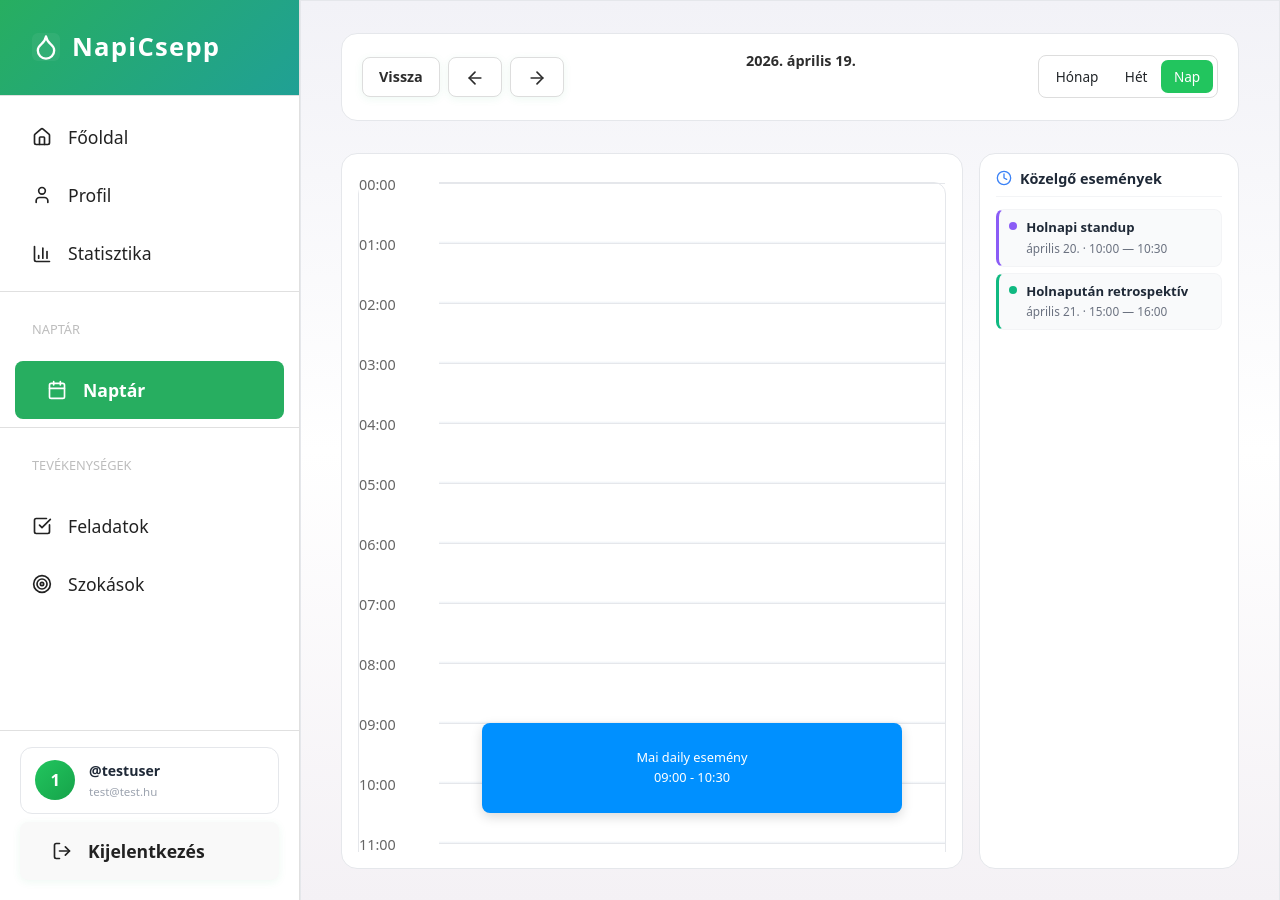
Daily View — Esemény blokk megjelenés › 7 - Mini popup Szerkesztés megnyitja az EventPopupot
Click the element with class "event-block-daily": (692,768) [482,723,902,813]
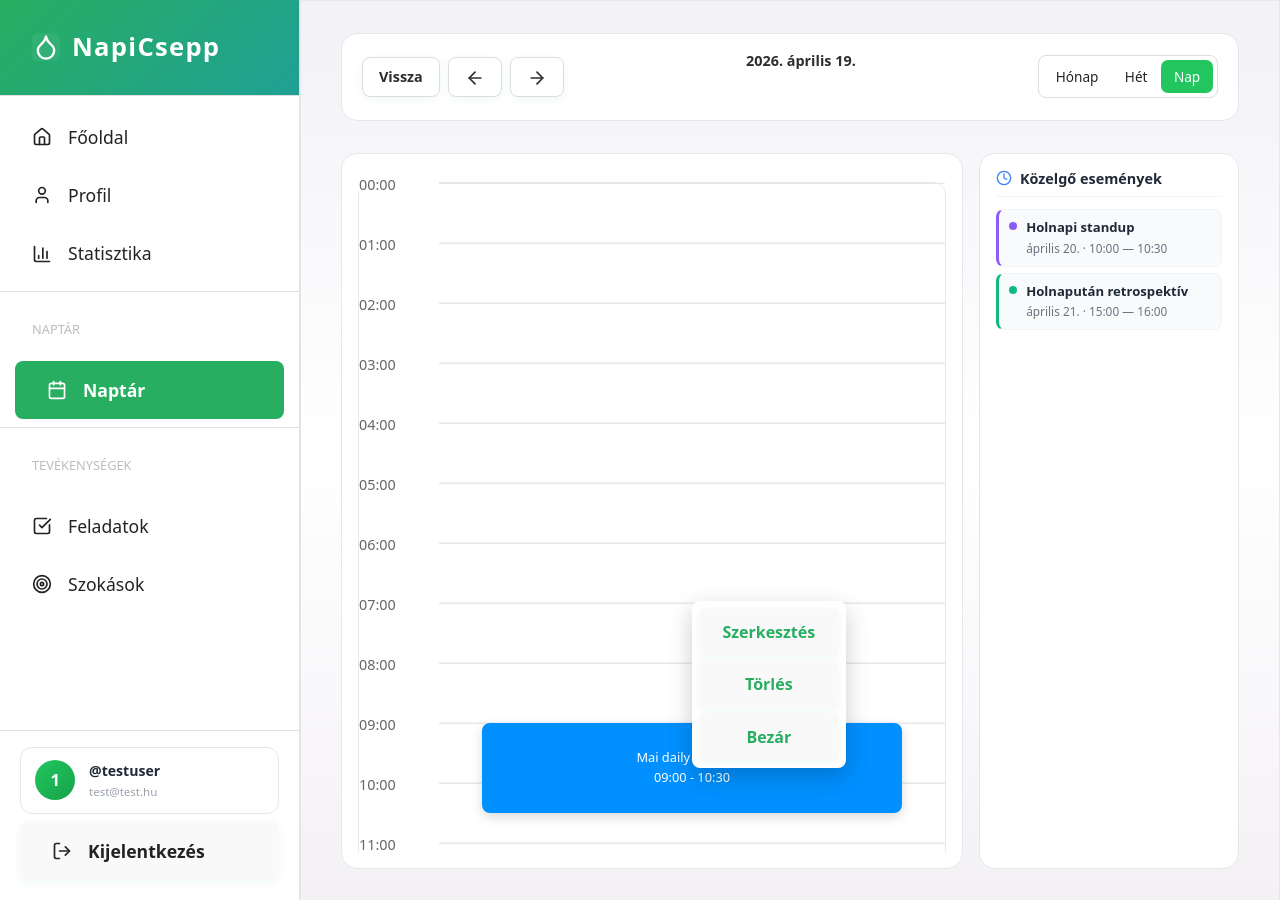
Click the button "Szerkesztés": (769,632) [700,609,838,655]
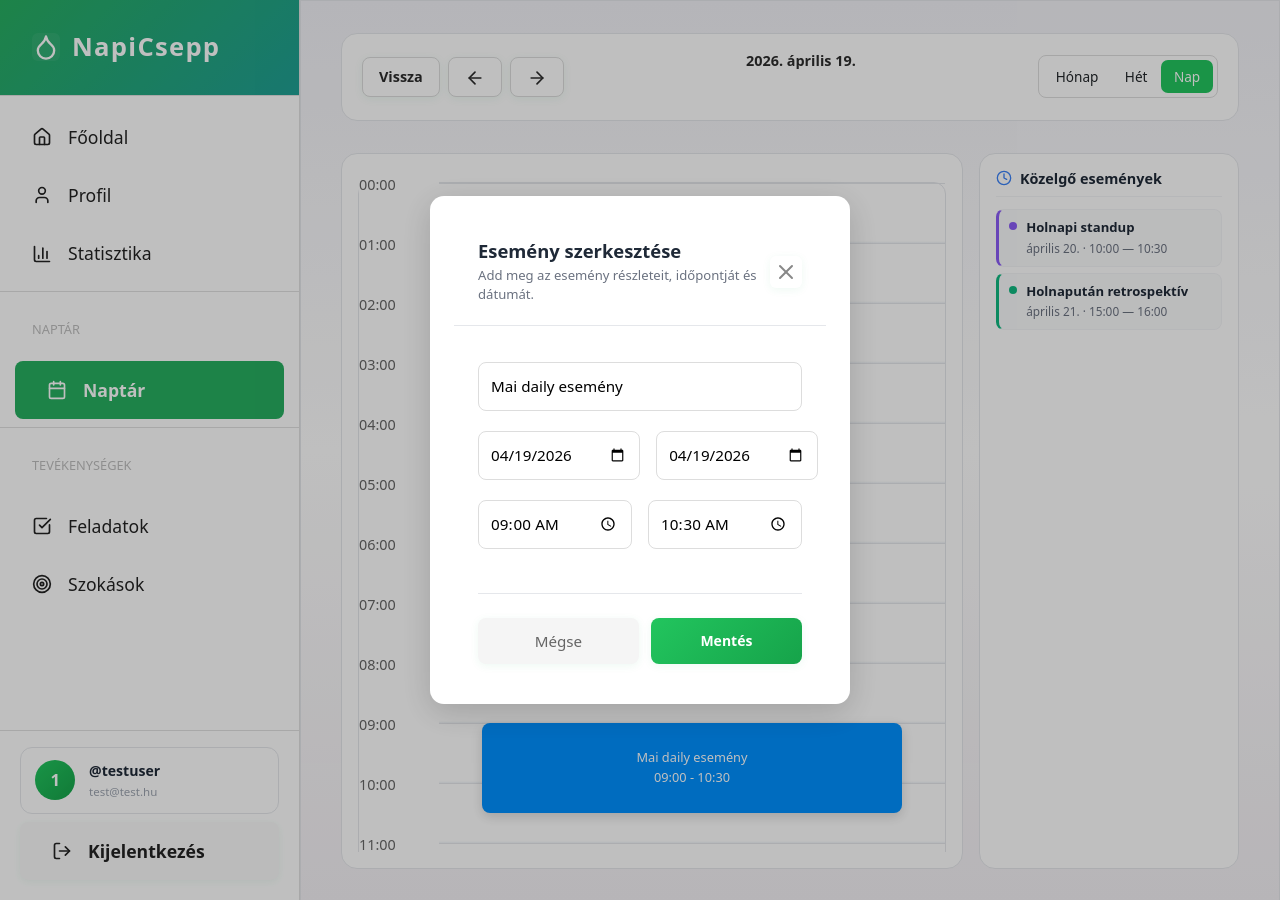
Result: the form is shown at [454,342,826,684]
